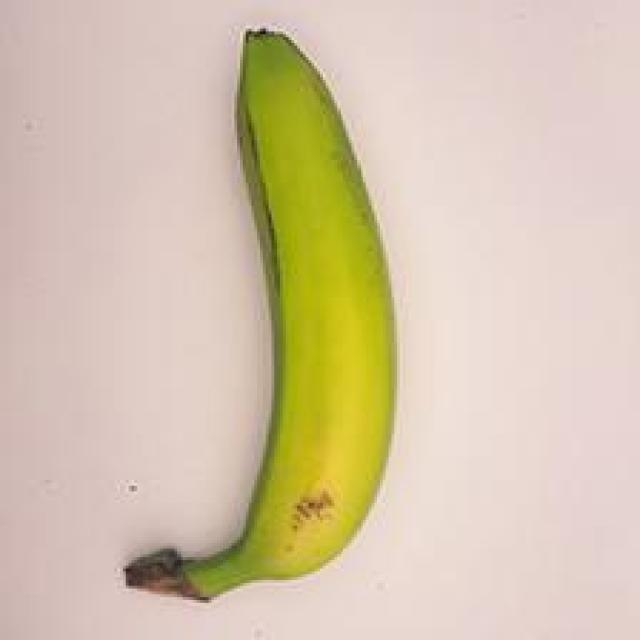Unripe: (97, 12, 415, 611)
